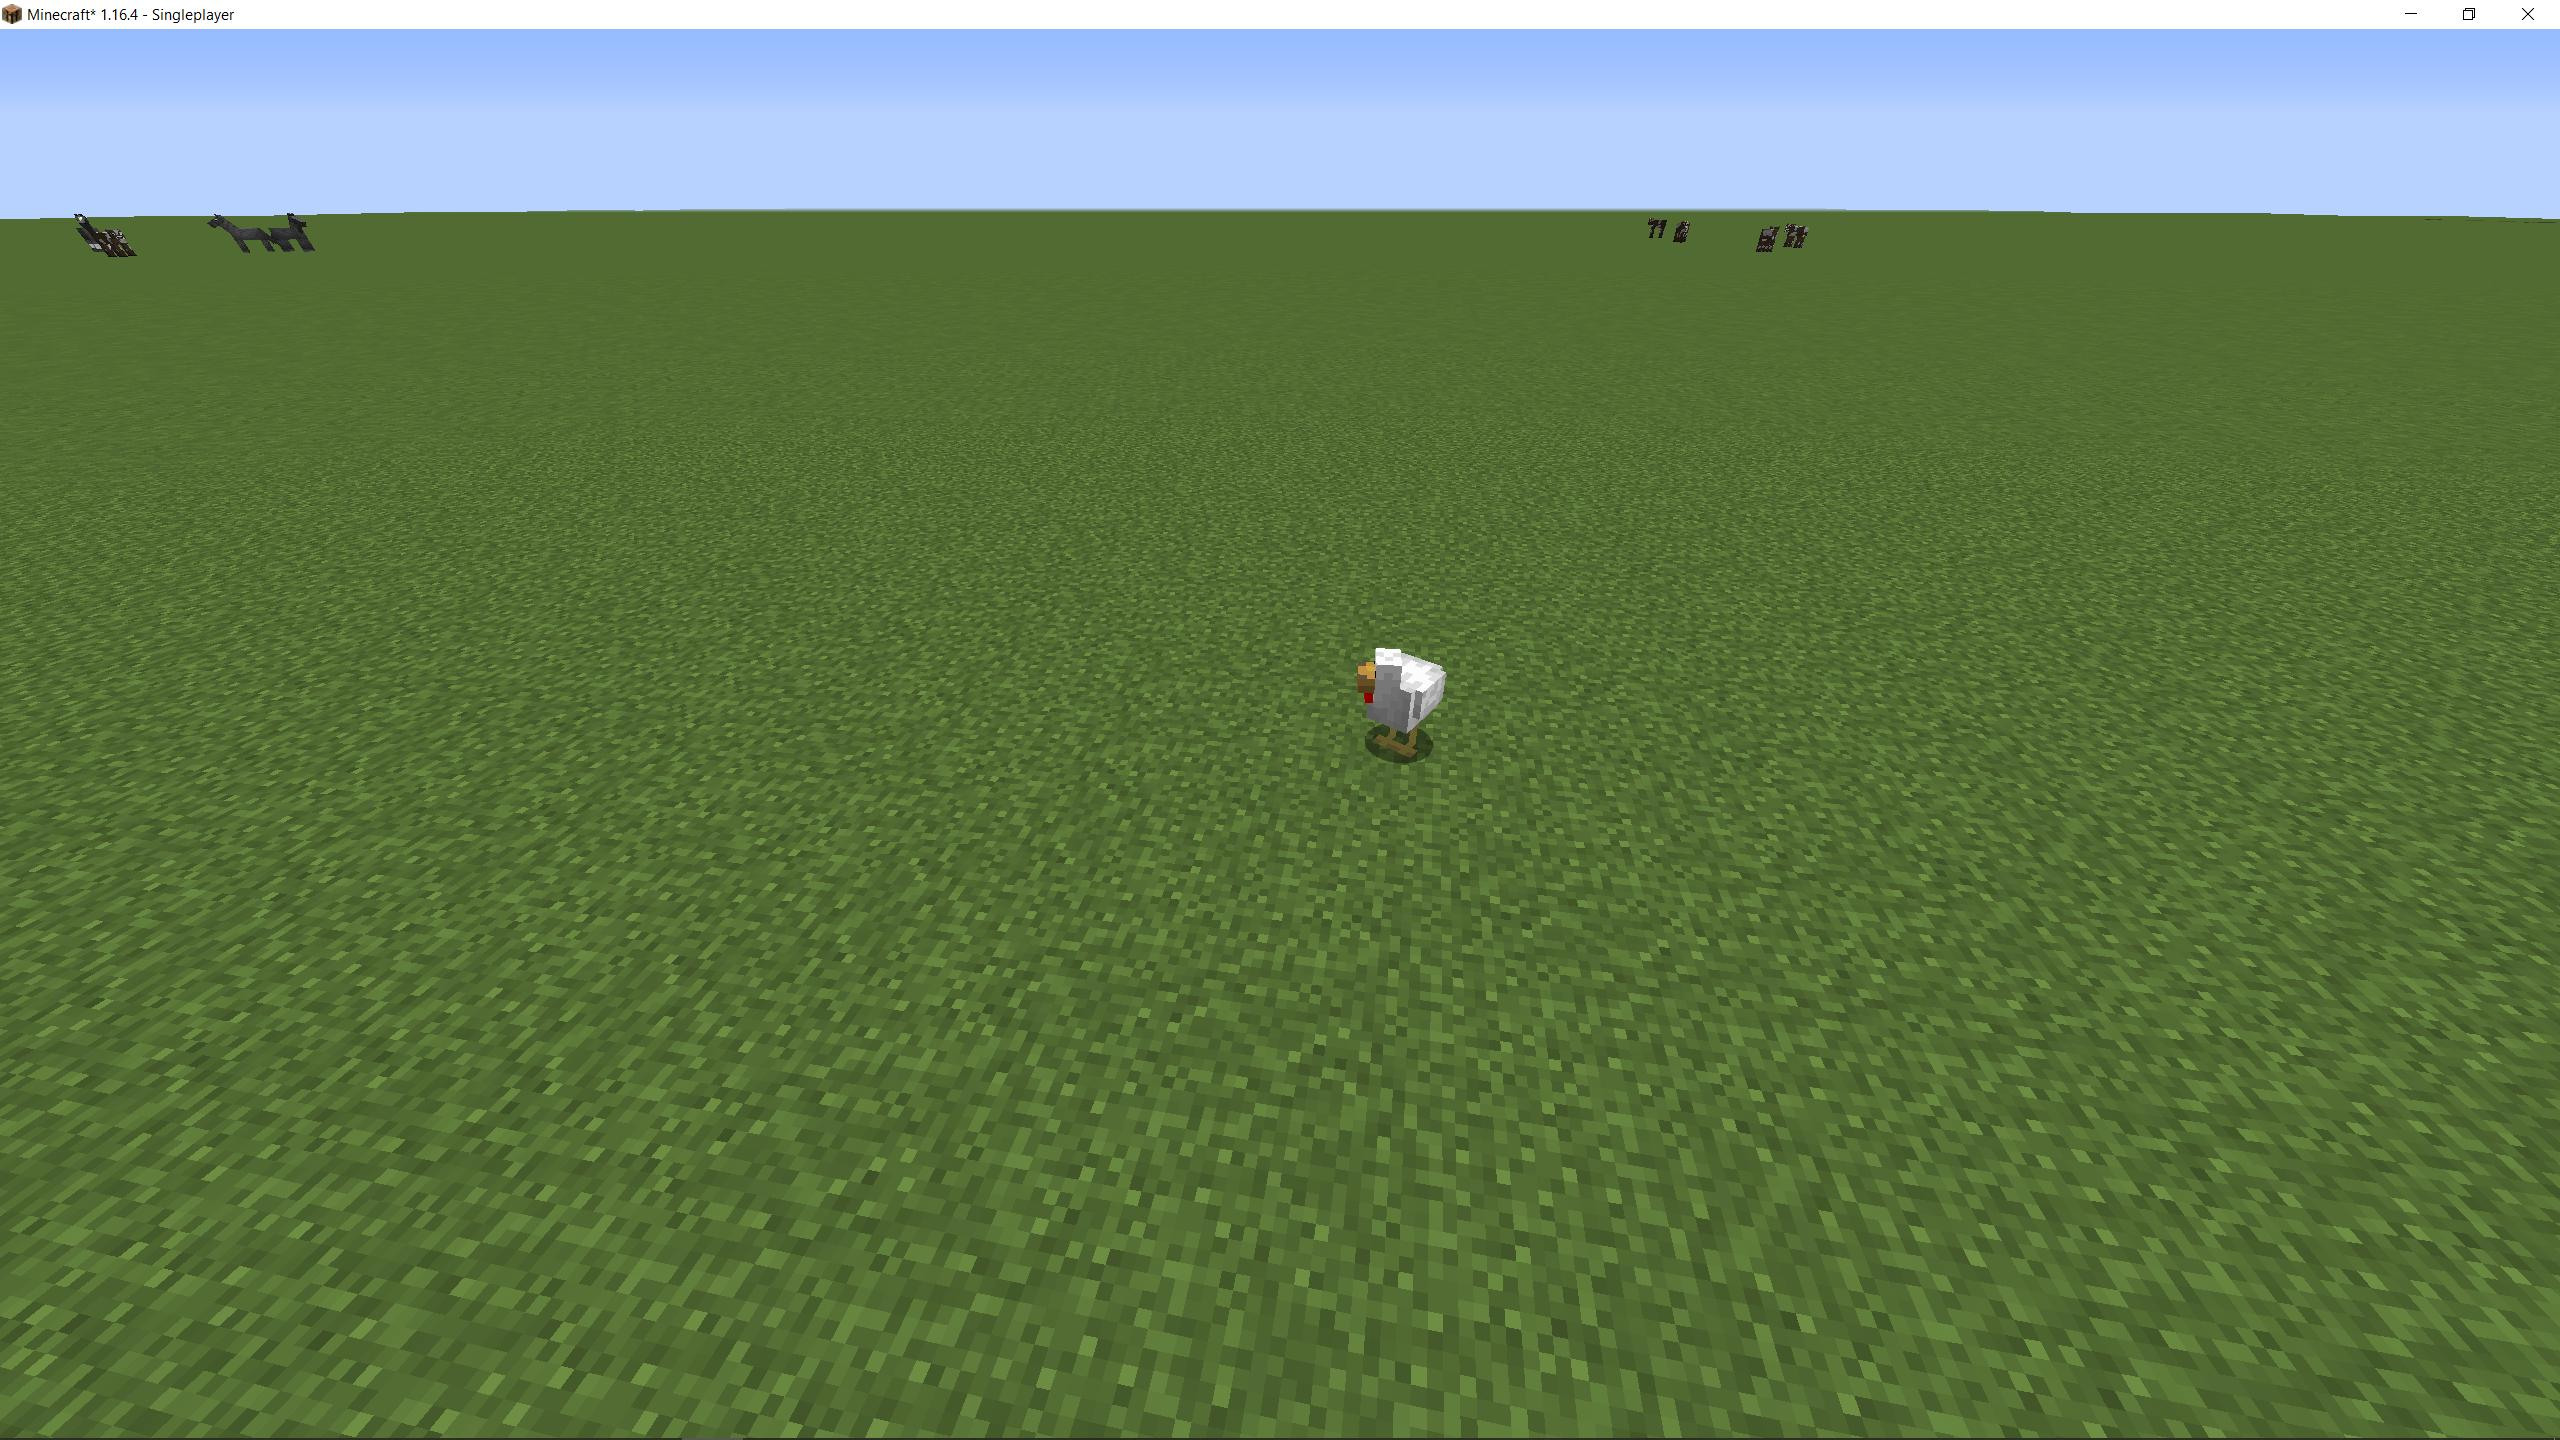chicken: (1350, 638, 1451, 761)
